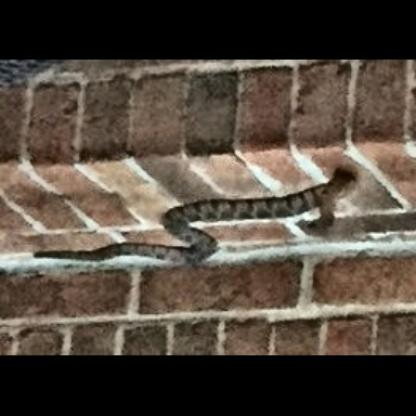Snake: (2, 73, 416, 349)
